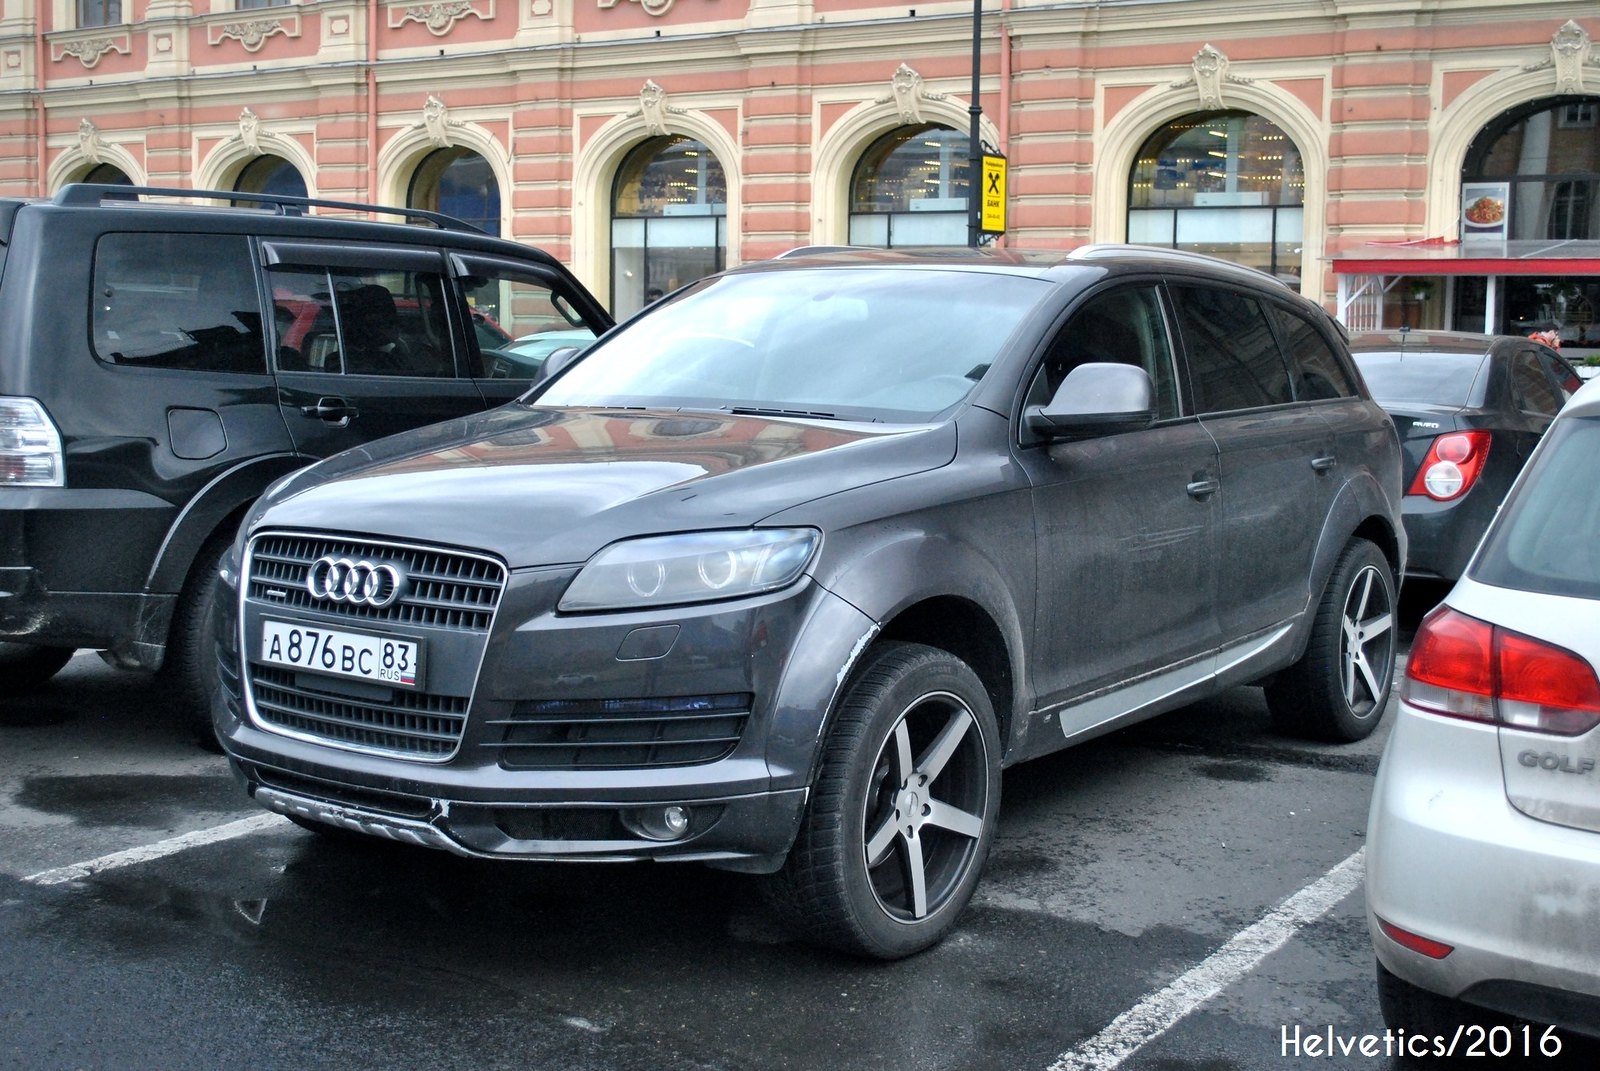car: (215, 483, 825, 875)
plate: (259, 617, 421, 691)
